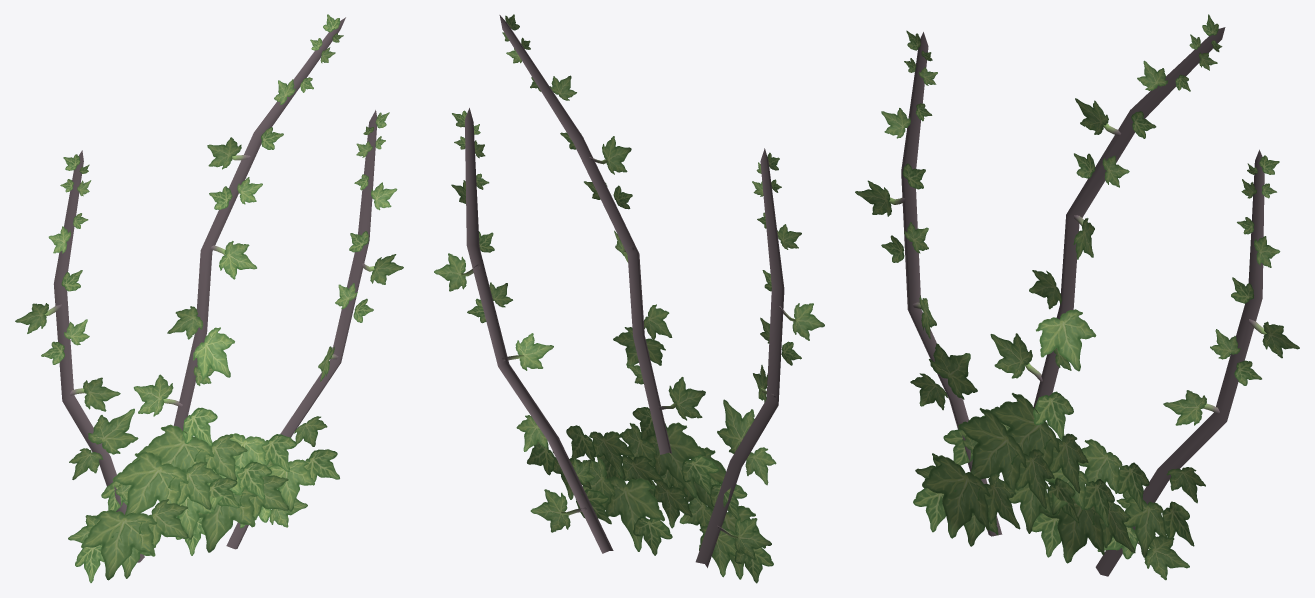
The model's file is Ivy.fbx.
The picture shows the model from 3 angles, left to right: view 1: azimuth 30°, elevation 25°; view 2: azimuth 150°, elevation 25°; view 3: azimuth 330°, elevation 25°; orthographic projection. The views are drawn at different scales.
Visible parts, largest first — view 1: Ivy1; view 2: Ivy1; view 3: Ivy1.
Boxes of the visible parts, <box> form: Ivy1: <box>15,14,403,582</box>; Ivy1: <box>434,14,824,583</box>; Ivy1: <box>855,14,1299,580</box>.
Size of the model in its own units: 161 by 203 by 14.01.
1 material, 1 textured.
